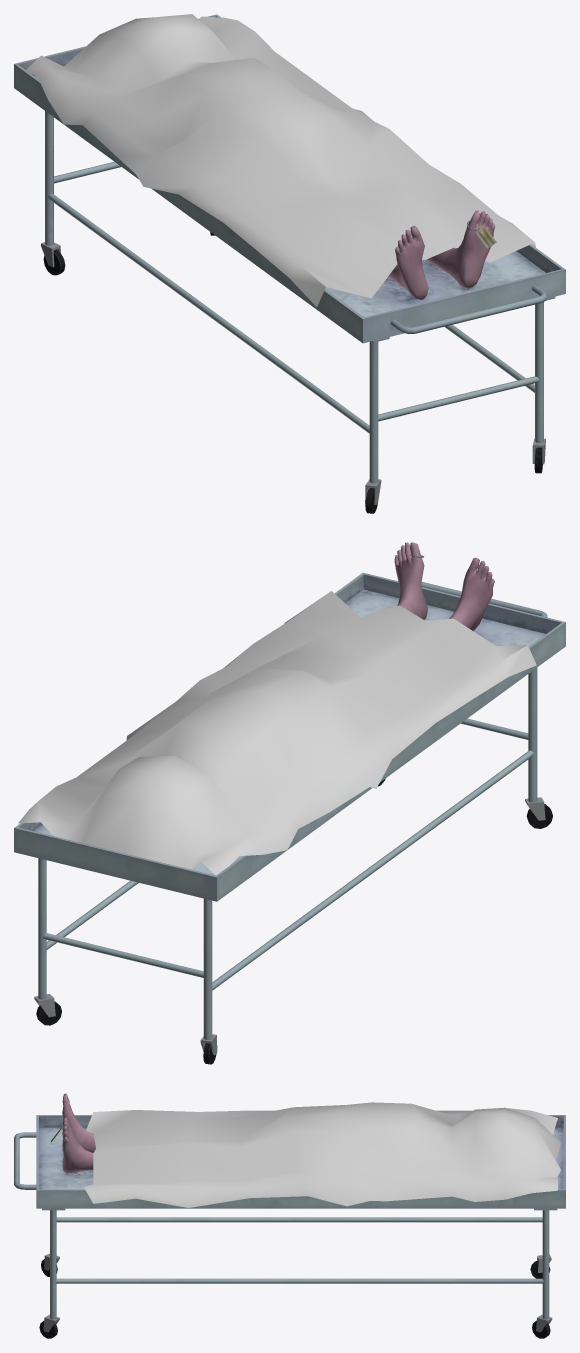
Rendered from x_cadaver_dead_body.glb.
3 renders of one model, top to bottom at view 1: azimuth 30°, elevation 25°; view 2: azimuth 150°, elevation 25°; view 3: azimuth 270°, elevation 25°, orthographic. The views are drawn at different scales.
Parts seen in each view (by area): view 1: defaultMaterial; view 2: defaultMaterial; view 3: defaultMaterial.
Part boxes in pixels (<box>): defaultMaterial: <box>14,14,565,513</box>; defaultMaterial: <box>14,542,565,1064</box>; defaultMaterial: <box>14,1093,565,1338</box>.
Size of the model in its own units: 0.7811 by 0.8455 by 2.1.
1 material, 1 textured.
